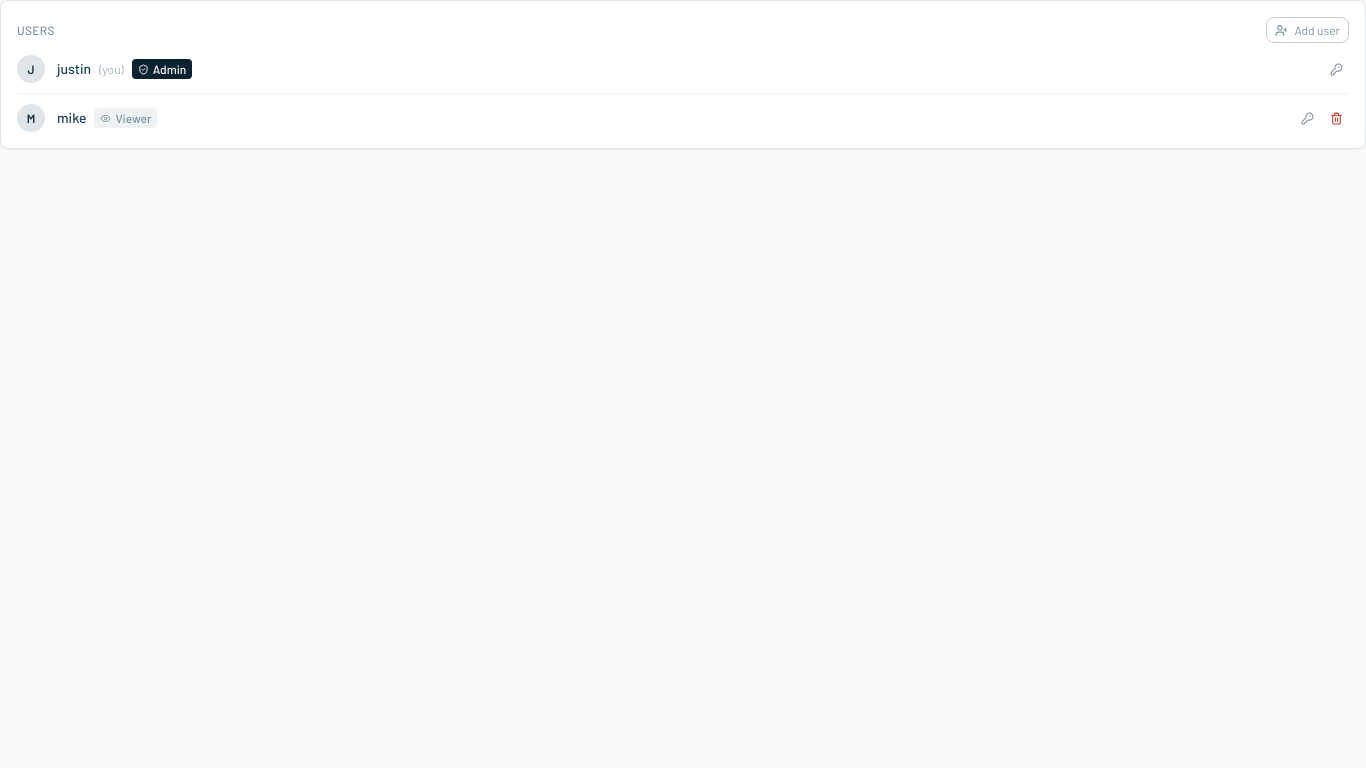
Scenario: UsersSection › changing your own password › will not submit unless the confirmation matches
This screenshot has width=1366, height=768.
Click the button titled "Change my password". click: [1336, 69]
box: [1324,56,1349,82]
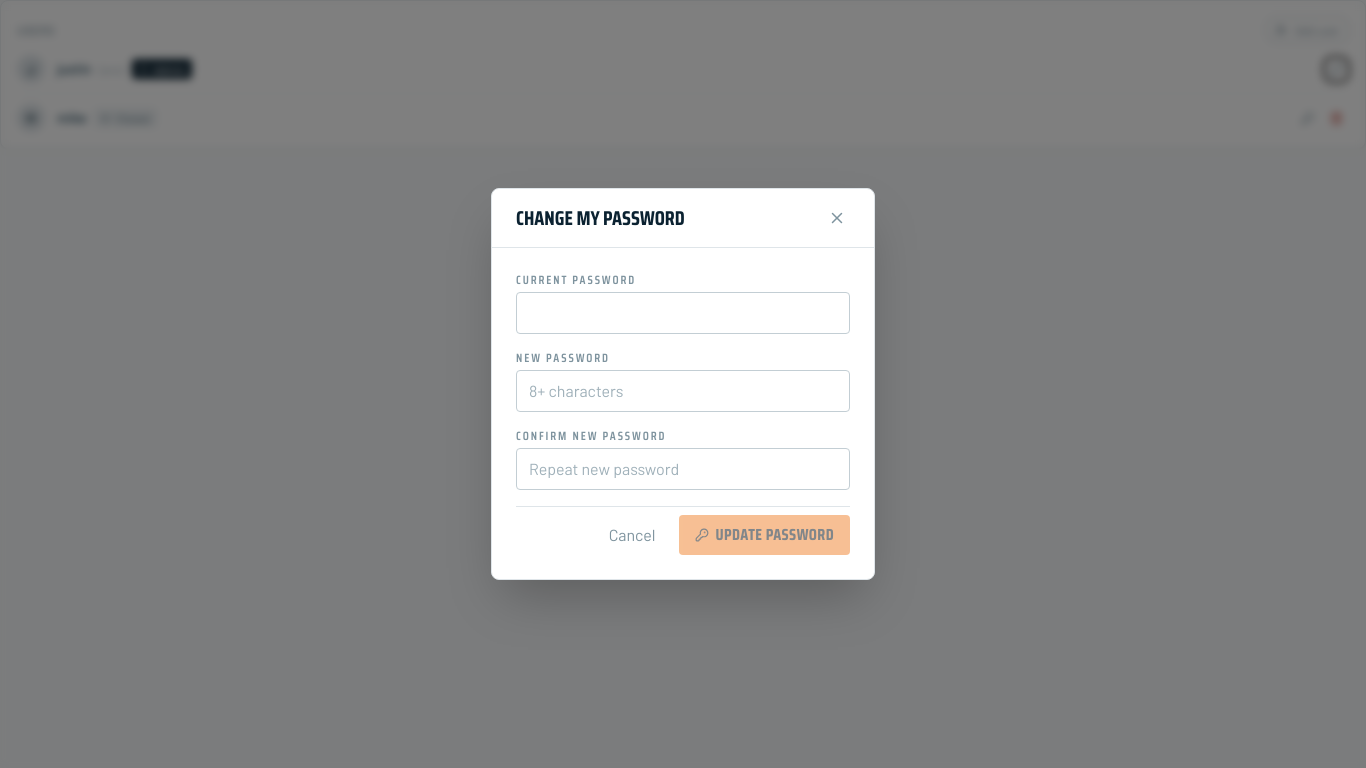
Type "longenoughpw" into the password field with placeholder "8+ characters". click: [683, 391]
box: [516,370,850,412]
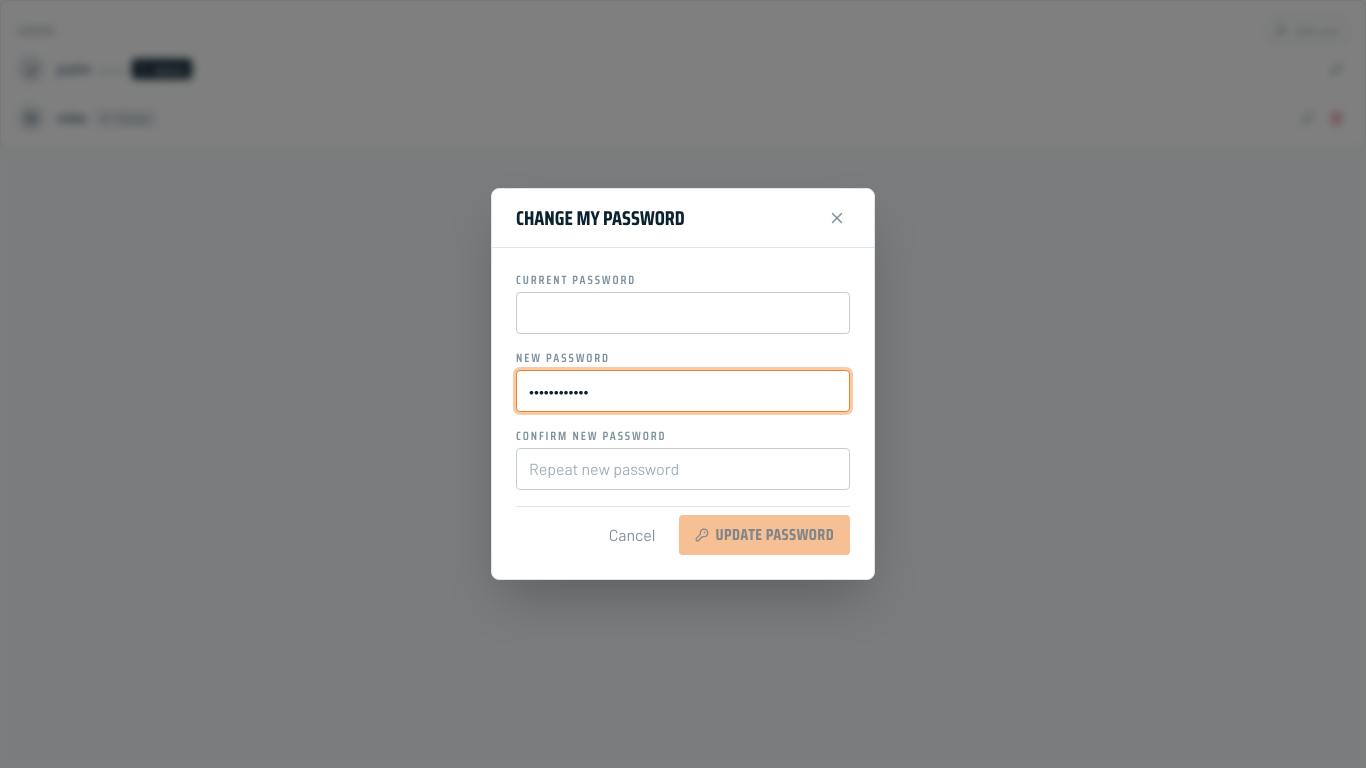
Type "different123" into the password field with placeholder "Repeat new password". click: [683, 469]
box: [516,448,850,490]
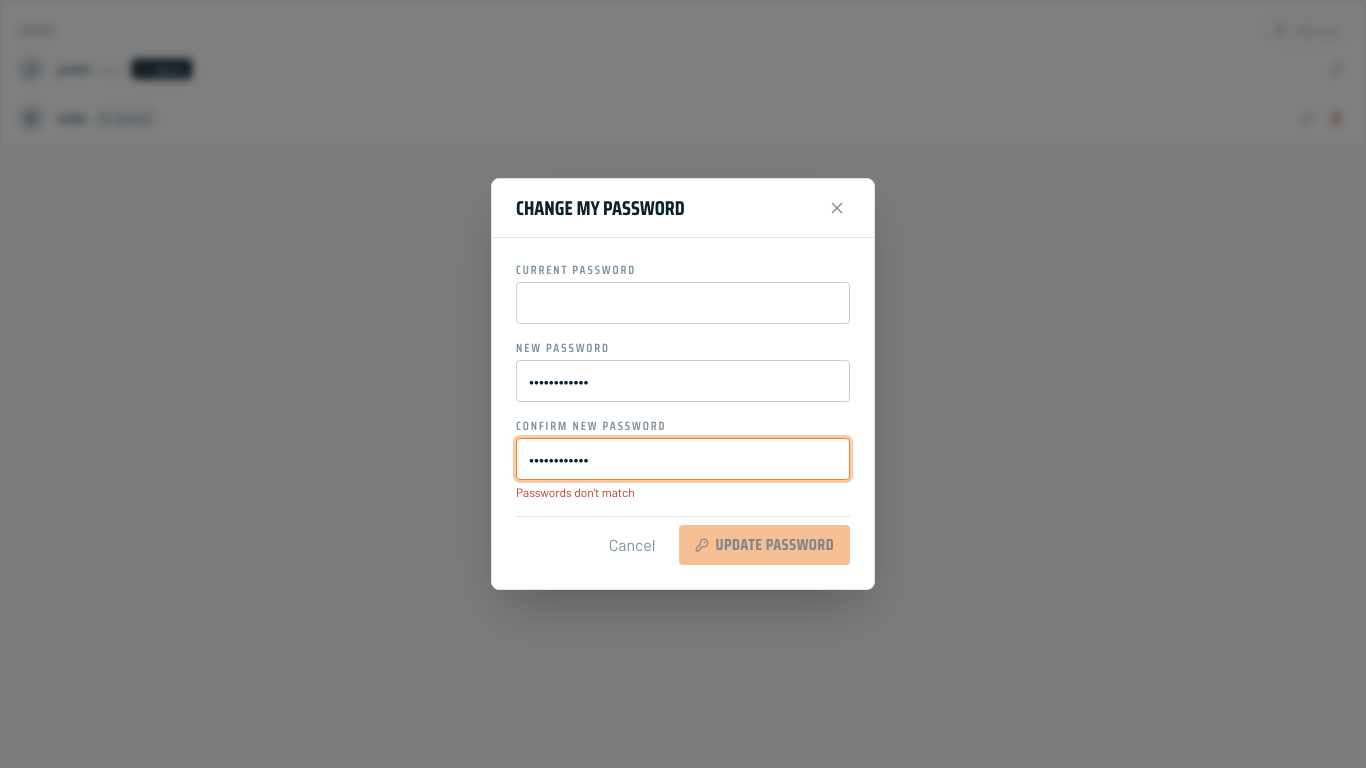
Check: the button "Update password" is disabled, box [679,525,850,565]
Check: the text "Passwords don't match" is shown, box [516,485,635,499]
